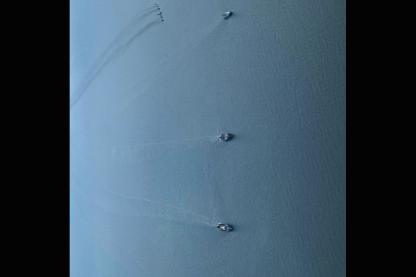B2: (154, 1, 163, 24)
